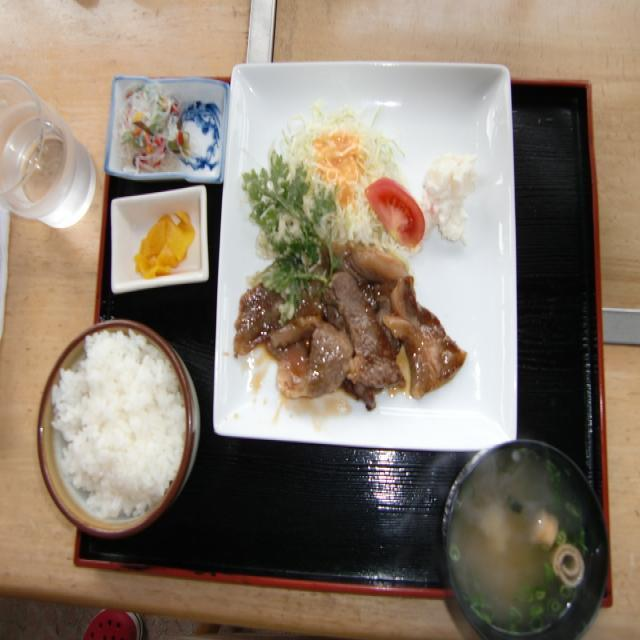Rice: (51, 332, 176, 511)
